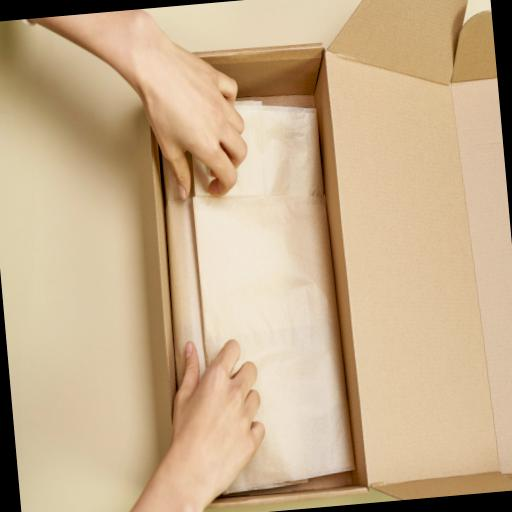Gloves: (92, 18, 262, 220), (119, 320, 292, 512)
